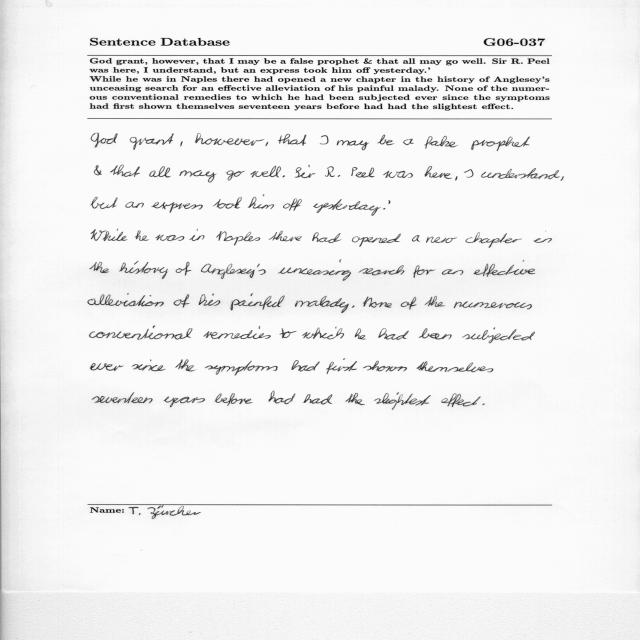word: (278, 260, 351, 281), (90, 326, 193, 340), (462, 328, 535, 344), (313, 199, 381, 216), (205, 361, 278, 376), (88, 293, 164, 307), (474, 260, 536, 277), (374, 392, 431, 410), (230, 293, 285, 311), (201, 264, 266, 279), (295, 296, 349, 313), (465, 232, 522, 248), (195, 133, 265, 146), (203, 326, 271, 339), (119, 261, 168, 279), (481, 168, 560, 179), (417, 361, 494, 372), (471, 137, 530, 151), (130, 133, 174, 150), (92, 392, 153, 404), (352, 234, 401, 247), (454, 302, 532, 310), (216, 231, 260, 245), (151, 202, 203, 213), (302, 327, 344, 340), (442, 393, 481, 407), (214, 393, 253, 406), (363, 361, 407, 372), (180, 170, 217, 183), (326, 359, 357, 374), (359, 265, 405, 275), (164, 397, 205, 408), (91, 229, 128, 241), (424, 136, 458, 149), (132, 360, 166, 372), (91, 133, 118, 148), (378, 328, 409, 340), (424, 166, 452, 179), (248, 195, 274, 209), (419, 328, 452, 339), (110, 165, 140, 177), (269, 391, 296, 404), (278, 134, 307, 146), (213, 197, 242, 209), (250, 166, 281, 177), (269, 231, 302, 241), (91, 197, 118, 209), (337, 140, 369, 150), (312, 232, 341, 243), (363, 297, 392, 308), (292, 360, 320, 371), (303, 394, 333, 404), (413, 265, 435, 278), (199, 293, 220, 306), (91, 363, 124, 371), (295, 165, 315, 178), (175, 359, 195, 372), (352, 167, 375, 178), (283, 198, 302, 211), (345, 393, 365, 405), (173, 294, 190, 308), (150, 167, 171, 178), (533, 231, 552, 243), (425, 296, 445, 307), (383, 171, 413, 178), (227, 170, 246, 181), (90, 262, 109, 273), (176, 262, 192, 275), (401, 297, 417, 310), (426, 237, 457, 243), (190, 229, 205, 241), (279, 328, 297, 338), (155, 235, 184, 241), (378, 135, 395, 145), (325, 166, 340, 177), (135, 230, 149, 241), (442, 269, 463, 275), (355, 329, 366, 340), (125, 202, 144, 208), (464, 169, 474, 178), (94, 165, 102, 176), (320, 136, 329, 145), (403, 139, 414, 145), (412, 235, 420, 241), (560, 176, 564, 181), (180, 142, 183, 147), (455, 176, 458, 181), (266, 142, 269, 146), (352, 305, 355, 308), (389, 200, 391, 204), (282, 176, 285, 178), (482, 404, 485, 406), (383, 208, 385, 209)
